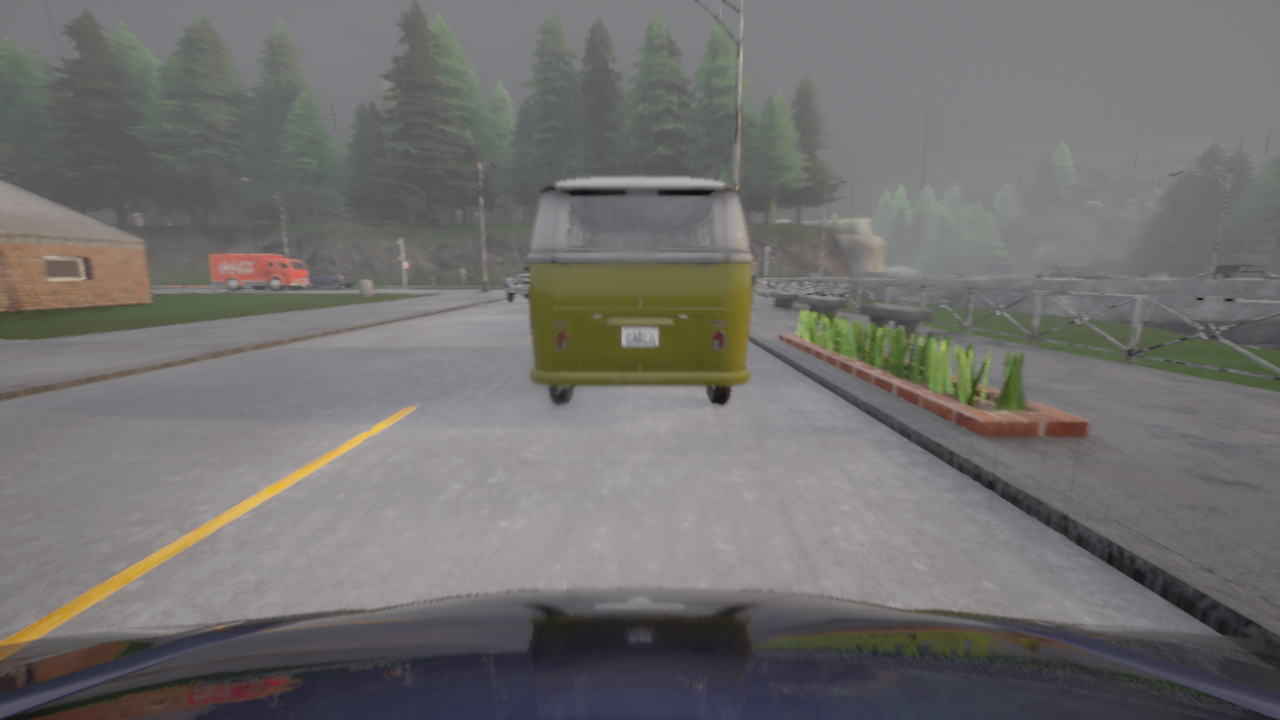cyclist: (0, 588, 1279, 719), (529, 178, 751, 404), (211, 254, 311, 290), (503, 258, 529, 302), (302, 268, 355, 289), (1211, 263, 1279, 279), (1034, 266, 1116, 279)
pedestrian: (750, 254, 758, 302), (467, 264, 474, 286), (460, 264, 466, 286), (436, 265, 440, 285), (432, 274, 434, 286)
